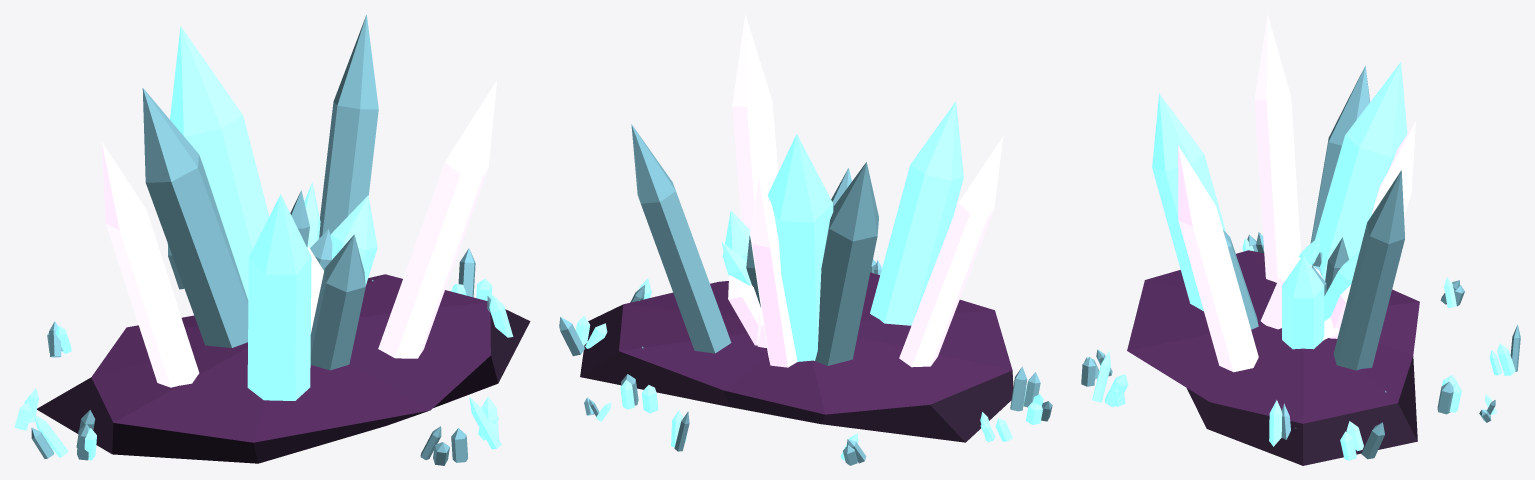
The model's file is W4_Mid_CrystalCavern.fbx.
The picture shows the model from 3 angles, left to right: view 1: azimuth 30°, elevation 25°; view 2: azimuth 150°, elevation 25°; view 3: azimuth 270°, elevation 25°; orthographic projection. The views are drawn at different scales.
Visible parts, largest first — view 1: W4_Mid_CrystalCavern; view 2: W4_Mid_CrystalCavern; view 3: W4_Mid_CrystalCavern.
Boxes of the visible parts, box(x1,y1,x2,y2) form: W4_Mid_CrystalCavern: box(14, 14, 530, 465); W4_Mid_CrystalCavern: box(559, 15, 1052, 465); W4_Mid_CrystalCavern: box(1081, 15, 1520, 465).
Bounding box in the file's own units: 87.63 × 53.92 × 75.71.
